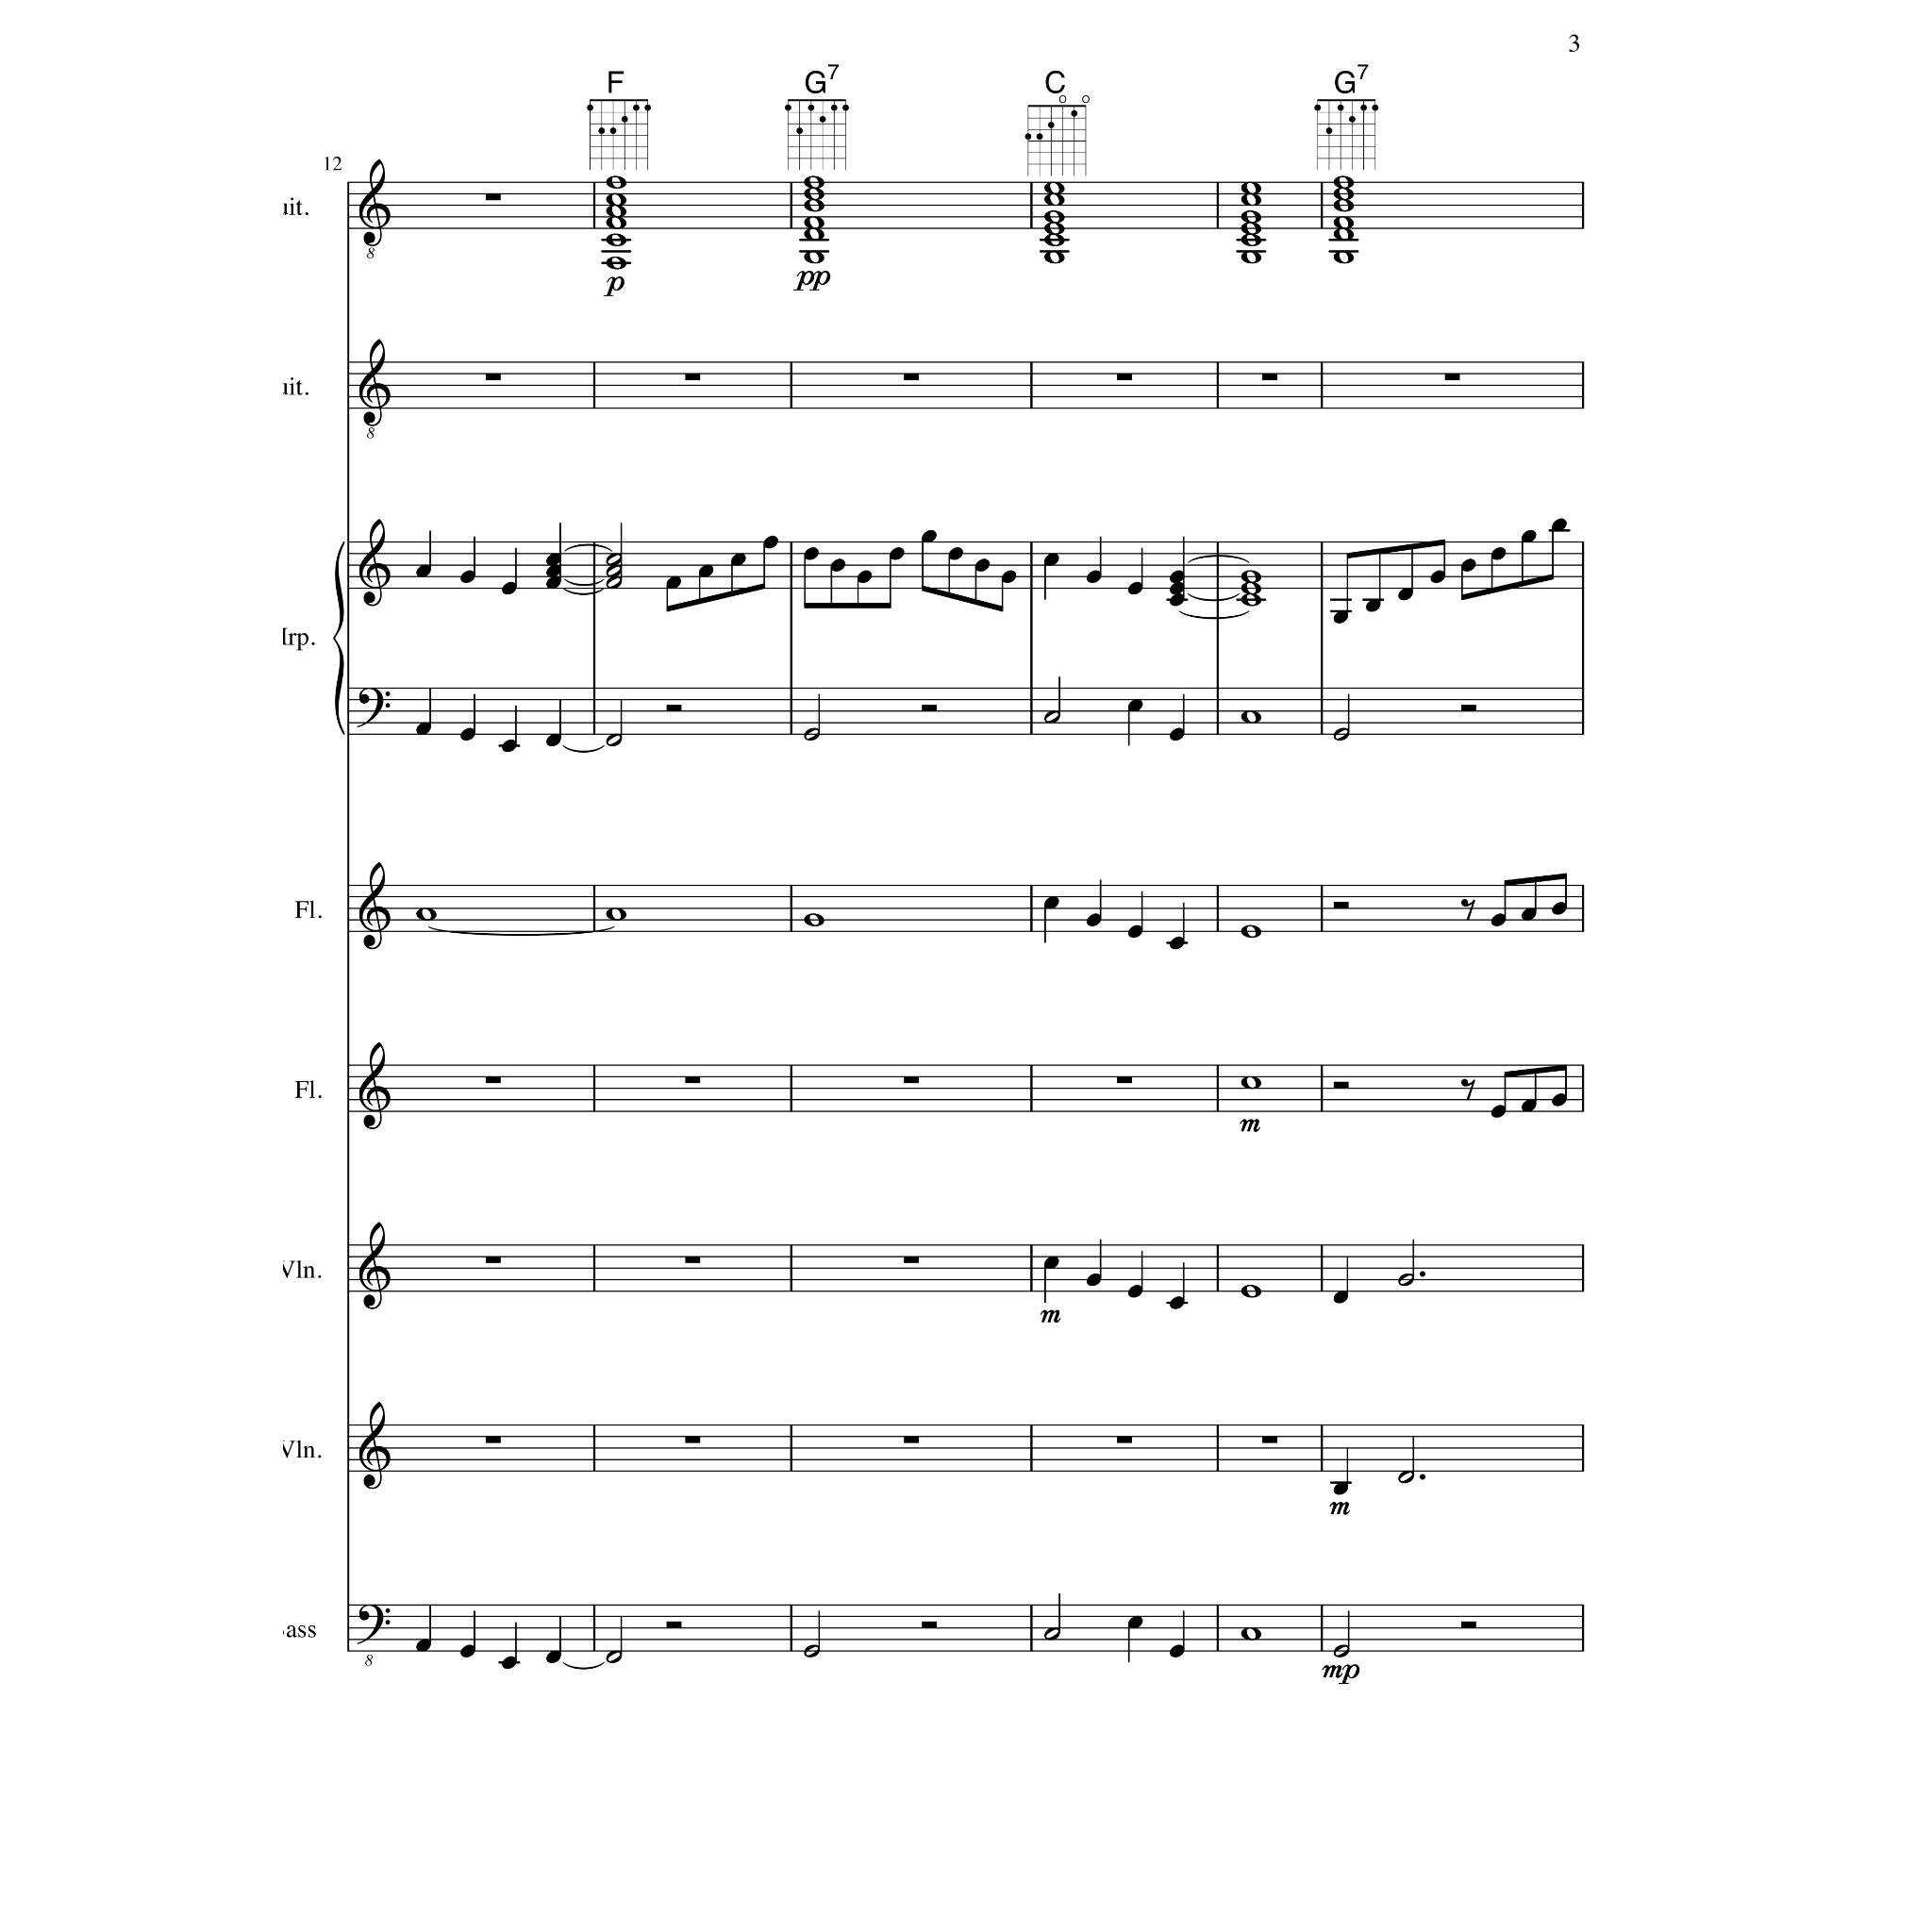brace: (332, 541, 345, 736)
fClef: (357, 687, 391, 728), (357, 1604, 391, 1645)
gClef: (358, 339, 391, 427), (358, 158, 391, 247), (358, 1041, 391, 1130), (358, 519, 391, 608), (358, 861, 391, 950), (358, 1222, 391, 1310), (358, 1401, 391, 1490)
noteheadBlack: (1126, 1615, 1143, 1630), (1551, 1092, 1568, 1108), (458, 1643, 475, 1658), (974, 558, 991, 574), (1170, 1643, 1185, 1658), (1398, 587, 1413, 602), (1460, 558, 1475, 574), (830, 558, 845, 574), (1332, 1482, 1349, 1495), (1332, 610, 1349, 624), (1332, 1291, 1349, 1304), (1126, 582, 1143, 595), (1126, 699, 1143, 712), (1126, 925, 1143, 939), (1126, 1285, 1143, 1298), (1551, 519, 1568, 532), (1551, 902, 1568, 915), (1364, 599, 1381, 612), (730, 553, 747, 566), (762, 536, 779, 549), (415, 565, 432, 578), (415, 723, 432, 736), (415, 1639, 432, 1652), (458, 571, 475, 584), (458, 727, 475, 741), (947, 547, 964, 560), (1000, 571, 1017, 584), (1085, 571, 1102, 584), (1085, 913, 1102, 926), (1085, 1274, 1102, 1287), (921, 530, 938, 543), (1170, 593, 1185, 607), (1170, 582, 1185, 595), (1170, 571, 1185, 584), (1170, 727, 1185, 741), (1170, 937, 1185, 950), (1170, 1296, 1185, 1309), (1430, 571, 1445, 584), (1521, 1099, 1536, 1112), (1521, 530, 1536, 543), (1521, 908, 1536, 921), (1491, 547, 1506, 560), (1491, 913, 1506, 926), (1491, 1105, 1506, 1118), (698, 565, 713, 578), (666, 576, 681, 590), (545, 565, 560, 578), (545, 553, 560, 566), (545, 734, 560, 747), (545, 1650, 560, 1663), (545, 576, 560, 590), (502, 740, 517, 753), (502, 582, 517, 595), (502, 1656, 517, 1669), (1043, 553, 1058, 566), (1043, 896, 1058, 909), (1043, 1257, 1058, 1270), (804, 547, 819, 560), (889, 547, 904, 560), (857, 571, 872, 584)
noteheadHalf: (1333, 1643, 1350, 1658), (803, 1643, 820, 1658), (1333, 727, 1350, 741), (1397, 1274, 1414, 1287), (1397, 1471, 1414, 1484), (606, 734, 623, 747), (606, 1650, 623, 1663), (606, 553, 623, 566), (606, 576, 623, 590), (606, 565, 623, 578), (1043, 710, 1060, 724), (1043, 1627, 1060, 1641), (803, 727, 820, 741)
noteheadWhole: (1332, 198, 1355, 213), (1240, 209, 1262, 225), (1240, 192, 1262, 208), (1240, 181, 1262, 196), (1240, 570, 1262, 585), (1240, 1075, 1262, 1091), (1240, 1626, 1262, 1641), (804, 198, 824, 213), (606, 192, 626, 208), (1043, 209, 1064, 225), (1043, 192, 1064, 208), (1043, 181, 1064, 196), (1332, 217, 1355, 230), (1332, 251, 1355, 264), (1332, 228, 1355, 241), (1332, 188, 1355, 201), (1332, 176, 1355, 190), (1240, 710, 1262, 724), (1240, 251, 1262, 264), (1240, 234, 1262, 247), (1240, 223, 1262, 236), (1240, 593, 1262, 607), (1240, 582, 1262, 595), (1240, 925, 1262, 939), (1240, 1285, 1262, 1298), (415, 908, 438, 921), (606, 908, 626, 921), (804, 251, 824, 264), (804, 228, 824, 241), (804, 217, 824, 230), (804, 188, 824, 201), (804, 176, 824, 190), (606, 257, 626, 270), (606, 234, 626, 247), (606, 217, 626, 230), (606, 205, 626, 218), (606, 176, 626, 190), (1043, 234, 1064, 247), (1043, 223, 1064, 236), (1043, 251, 1064, 264), (804, 913, 824, 926)
rest8th: (1460, 899, 1475, 922), (1460, 1078, 1475, 1101)
restHalf: (1332, 902, 1349, 909), (1332, 1081, 1349, 1089), (1460, 705, 1477, 712), (1460, 1621, 1477, 1628), (921, 705, 938, 712), (921, 1621, 938, 1628), (666, 705, 681, 712), (666, 1621, 681, 1628)
restWhole: (1443, 374, 1460, 381), (904, 1436, 919, 1443), (904, 1257, 919, 1264), (904, 1076, 919, 1084), (904, 374, 919, 381), (685, 1436, 700, 1443), (685, 1257, 700, 1264), (685, 1076, 700, 1084), (685, 374, 700, 381), (1262, 1436, 1277, 1443), (1262, 374, 1277, 381), (1117, 1436, 1132, 1443), (1117, 1076, 1132, 1084), (1117, 374, 1132, 381), (485, 1436, 500, 1443), (485, 1257, 500, 1264), (485, 1076, 500, 1084), (485, 374, 500, 381), (485, 193, 500, 201)
